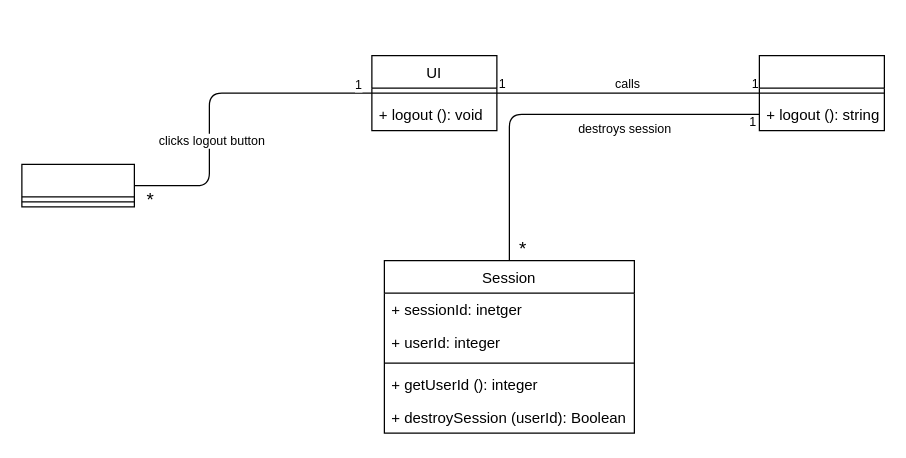
Image size: 906x458. Some labels were removed from this diagram. Each missing label, with the box of its shape:
LogoutHandler: (758, 54, 884, 131)
User: (21, 163, 134, 207)
